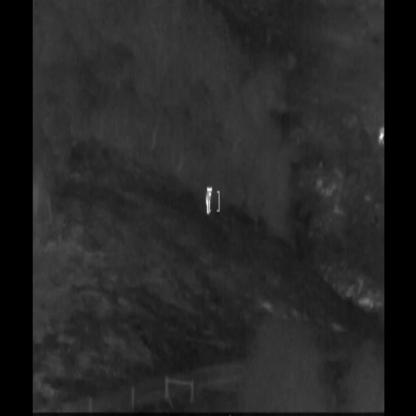rehkitze: (204, 185, 213, 219), (378, 122, 385, 151)
